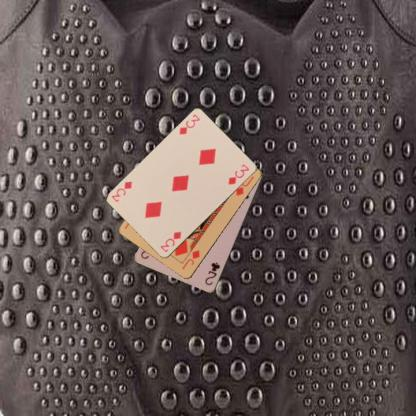2c: (202, 260, 221, 286)
3d: (158, 228, 182, 254), (176, 112, 202, 136)
Jd: (180, 247, 201, 271)
